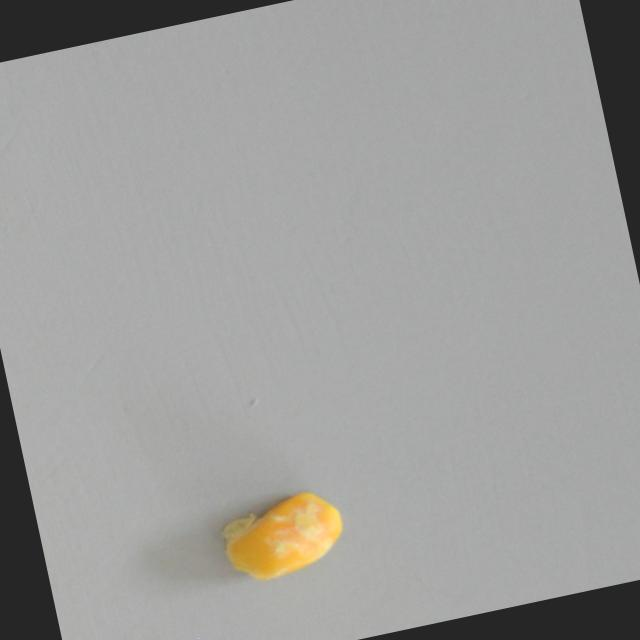pelicula: (210, 475, 356, 602)
